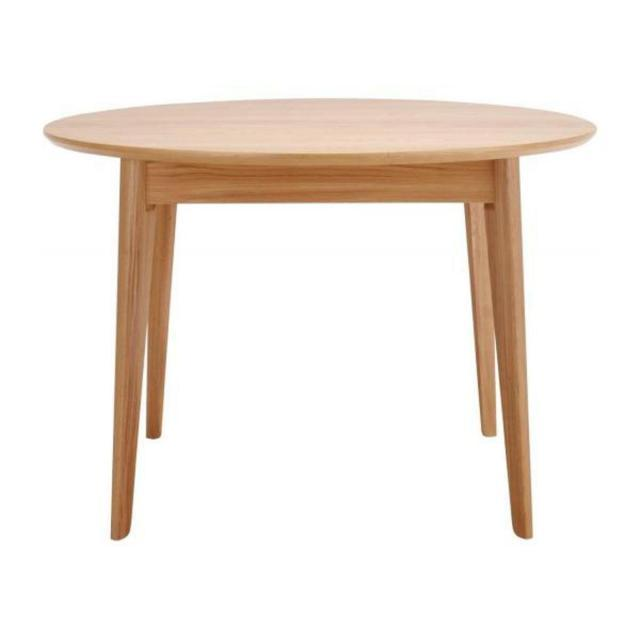mobile-phone: (39, 90, 594, 541)
